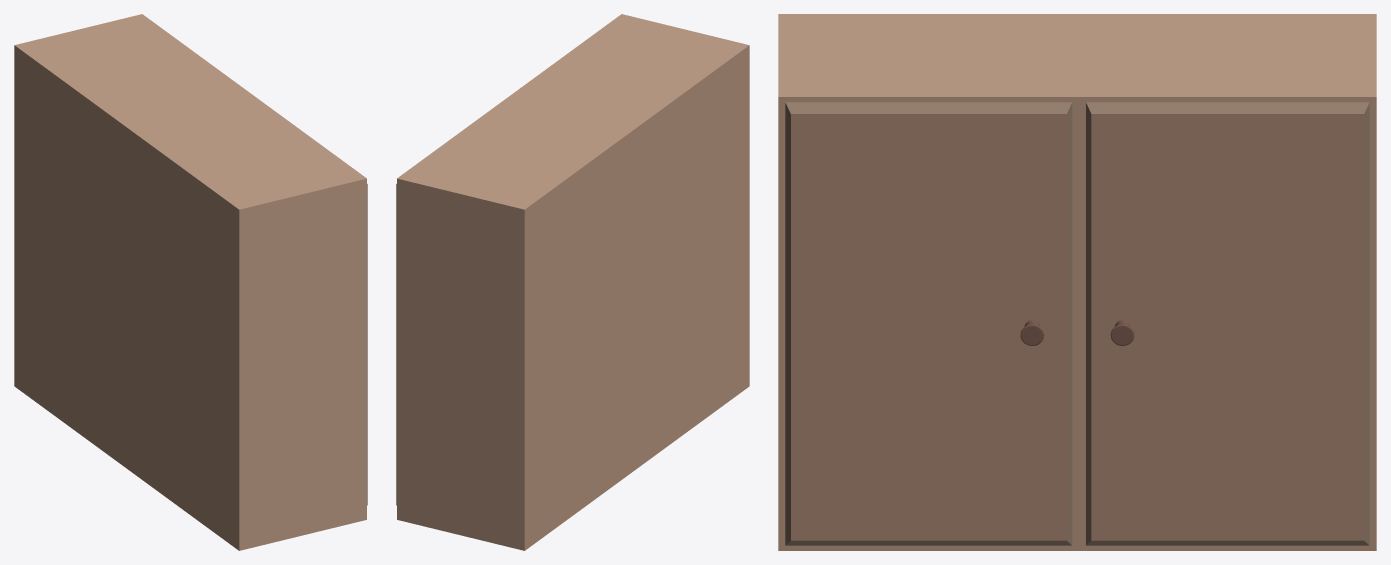
Rendered from dulap.fbx.
3 renders of one model, left to right at view 1: azimuth 30°, elevation 25°; view 2: azimuth 150°, elevation 25°; view 3: azimuth 270°, elevation 25°, orthographic. The views are drawn at different scales.
Visible parts, largest first — view 1: Cube; view 2: Cube; view 3: Cube, Cylinder.
Boxes of the visible parts, x1,y1,x2,y2 form: Cube: (14,14,367,550); Cube: (396,14,749,550); Cube: (778,14,1376,550); Cylinder: (1020,320,1134,345).
Bounding box in the file's own units: 228 × 510 × 609.
